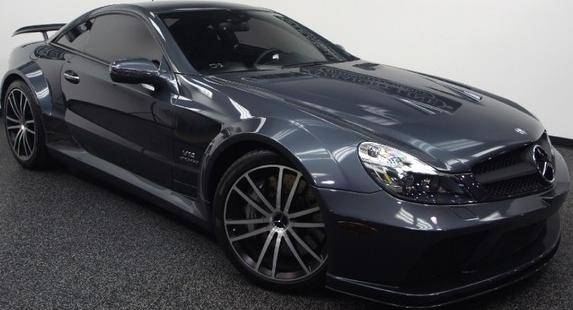front_view: (343, 109, 562, 287)
headlight: (343, 133, 476, 217)
side_glass: (48, 9, 173, 88)
